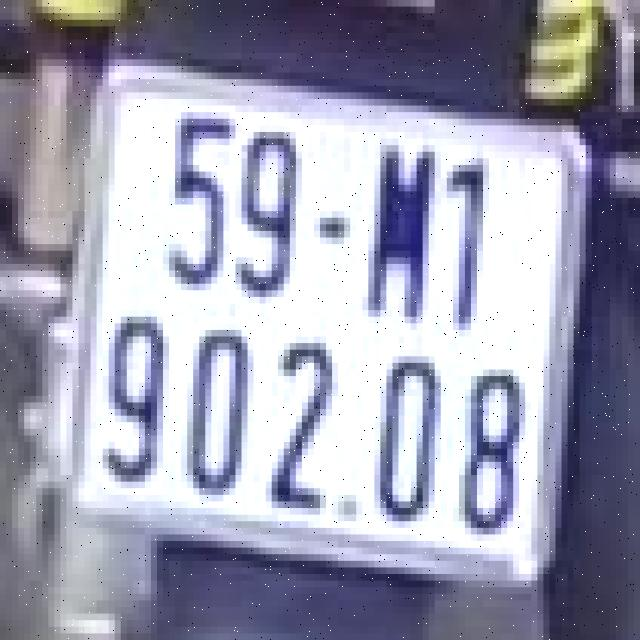0: (178, 324, 251, 502), (377, 346, 438, 524)
1: (444, 152, 492, 330)
2: (266, 327, 332, 511)
5: (154, 96, 232, 306)
8: (462, 356, 528, 548)
9: (97, 297, 175, 501), (235, 115, 296, 307)
M: (365, 122, 438, 327)
